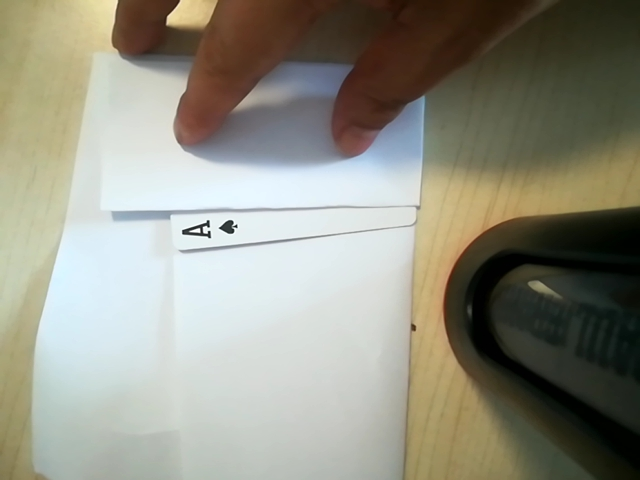ht a: (158, 201, 374, 255)
